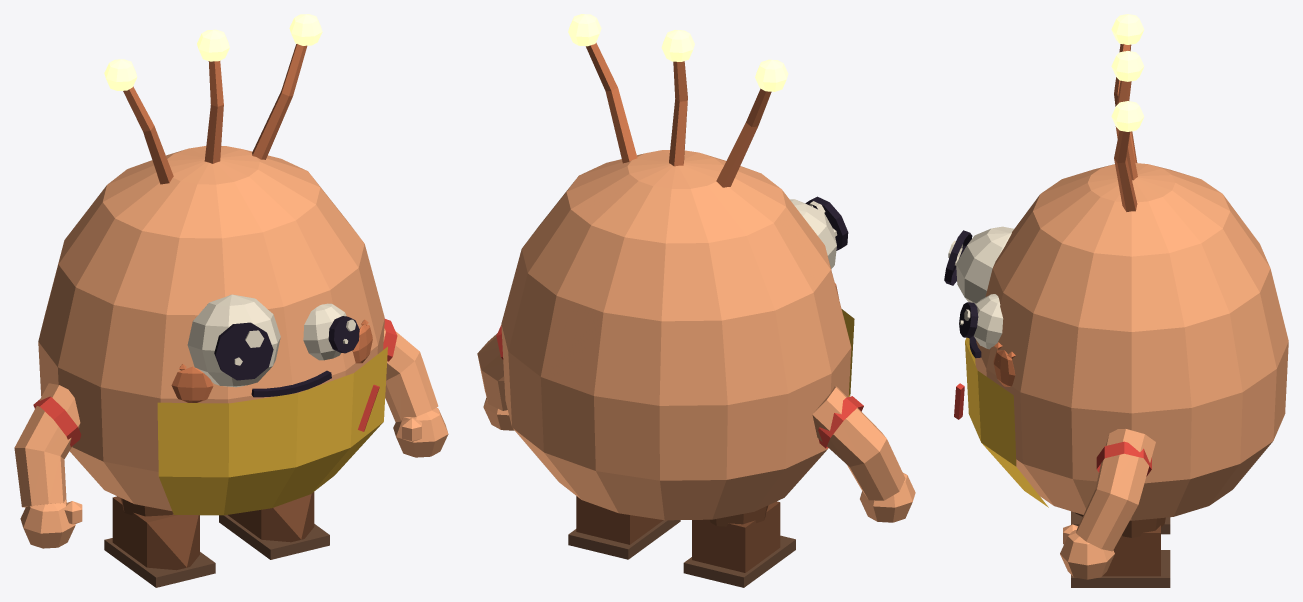
File: Char_Native_Shopkeeper.fbx
3 renders of one model, left to right at view 1: azimuth 30°, elevation 25°; view 2: azimuth 150°, elevation 25°; view 3: azimuth 270°, elevation 25°, orthographic. The views are drawn at different scales.
Parts seen in each view (by area): view 1: Char_Native_Shopkeeper_Body, Char_Native_Shopkeeper_Head, Char_Native_Shopkeeper_Arm_R, Char_Native_Shopkeeper_Leg_R, Char_Native_Shopkeeper_Arm_L, Char_Native_Shopkeeper_Leg_L; view 2: Char_Native_Shopkeeper_Body, Char_Native_Shopkeeper_Head, Char_Native_Shopkeeper_Leg_R, Char_Native_Shopkeeper_Arm_R, Char_Native_Shopkeeper_Leg_L, Char_Native_Shopkeeper_Arm_L; view 3: Char_Native_Shopkeeper_Body, Char_Native_Shopkeeper_Head, Char_Native_Shopkeeper_Arm_L, Char_Native_Shopkeeper_Leg_L.
Part boxes in pixels (box(x1,y1,x2,y2)): Char_Native_Shopkeeper_Body: box(33, 146, 397, 515); Char_Native_Shopkeeper_Head: box(104, 14, 372, 402); Char_Native_Shopkeeper_Arm_R: box(14, 383, 82, 548); Char_Native_Shopkeeper_Leg_R: box(104, 496, 215, 587); Char_Native_Shopkeeper_Arm_L: box(383, 328, 448, 457); Char_Native_Shopkeeper_Leg_L: box(219, 492, 329, 559); Char_Native_Shopkeeper_Body: box(496, 150, 863, 520); Char_Native_Shopkeeper_Head: box(568, 14, 848, 299); Char_Native_Shopkeeper_Leg_R: box(683, 501, 795, 587); Char_Native_Shopkeeper_Arm_R: box(812, 385, 915, 522); Char_Native_Shopkeeper_Leg_L: box(568, 496, 680, 559); Char_Native_Shopkeeper_Arm_L: box(477, 333, 514, 430); Char_Native_Shopkeeper_Body: box(954, 163, 1288, 520); Char_Native_Shopkeeper_Head: box(944, 14, 1144, 386); Char_Native_Shopkeeper_Arm_L: box(1060, 428, 1155, 579); Char_Native_Shopkeeper_Leg_L: box(1071, 517, 1170, 587).
Bounding box in the file's own units: 1.28 × 1.49 × 0.9366.
